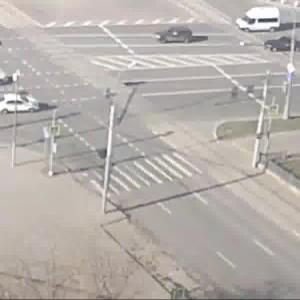car: (236, 7, 283, 34), (146, 26, 199, 48), (1, 93, 43, 115), (266, 36, 300, 56)
